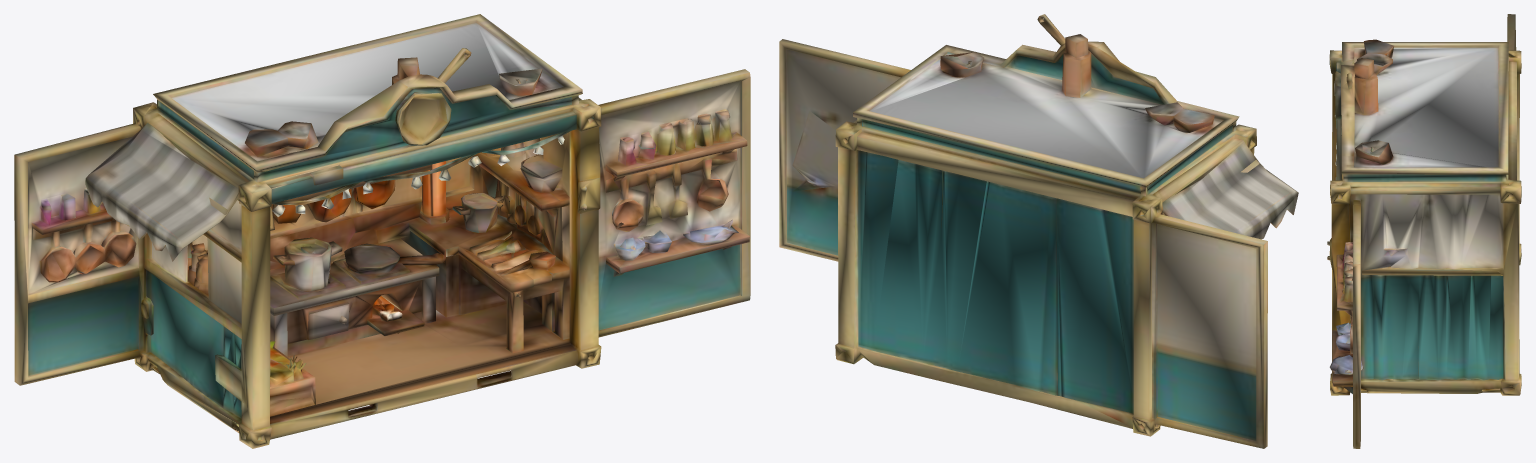
File: chufang-3.glb
3 views of the same model, side by side, from view 1: azimuth 30°, elevation 25°; view 2: azimuth 150°, elevation 25°; view 3: azimuth 270°, elevation 25° (orthographic). The views are drawn at different scales.
Visible parts, largest first — view 1: node_0; view 2: node_0; view 3: node_0.
Boxes of the visible parts, bbox=[...] form: node_0: bbox=[14, 14, 750, 448]; node_0: bbox=[779, 14, 1298, 448]; node_0: bbox=[1327, 14, 1521, 448].
Bounding box in the file's own units: 1.05 × 0.5333 × 0.3439.
1 material, 1 textured.
